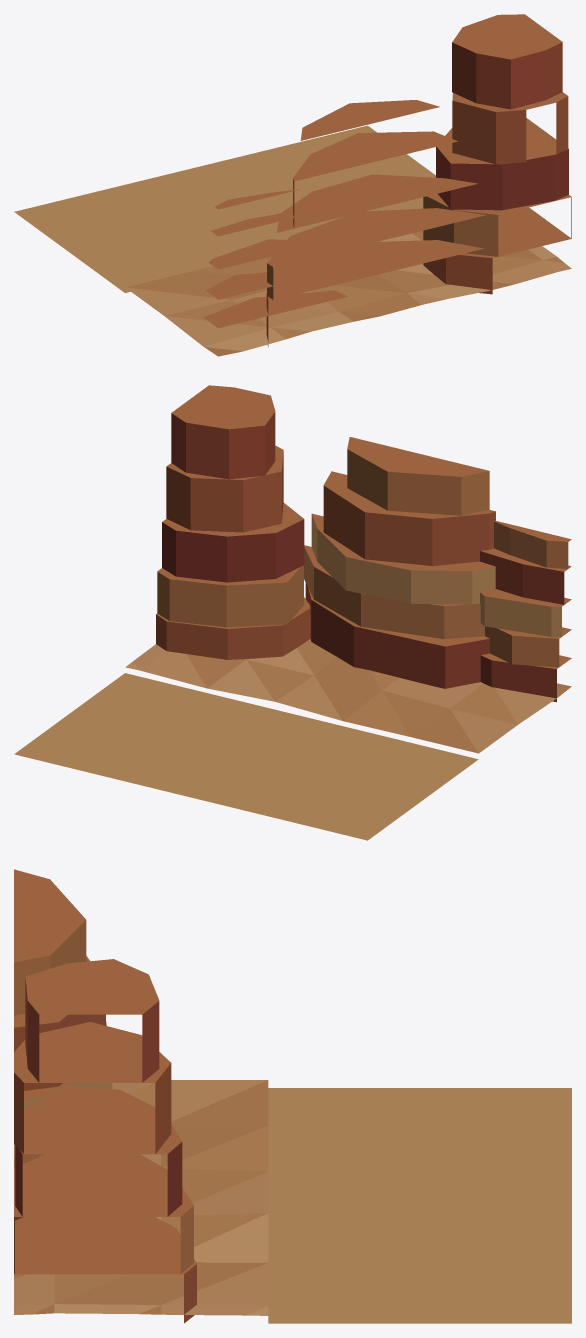
3 views of the same model, one above another, from view 1: azimuth 30°, elevation 25°; view 2: azimuth 150°, elevation 25°; view 3: azimuth 270°, elevation 25° (orthographic). The views are drawn at different scales.
Parts seen in each view (by area): view 1: baked; view 2: baked; view 3: baked.
Part boxes in pixels (x1,y1,x2,y2): baked: (14,14,571,356); baked: (14,385,571,840); baked: (14,869,571,1323).
Size of the model in its own units: 62.5 by 38.2 by 62.5.
